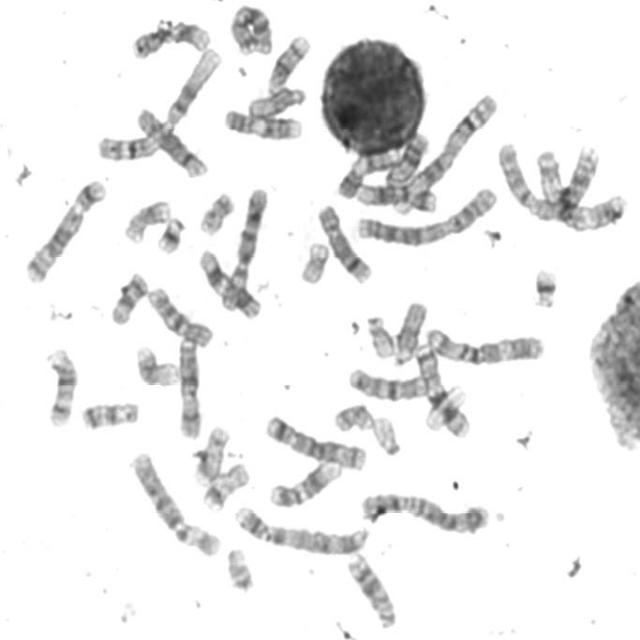A1: (350, 86, 500, 208), (92, 40, 224, 164)
A2: (494, 136, 617, 228), (352, 179, 501, 249)
A3: (531, 144, 628, 232), (421, 322, 546, 368)
B4: (230, 498, 370, 557), (357, 486, 491, 537)
B5: (20, 177, 111, 286), (260, 409, 368, 472)
C10: (142, 280, 216, 349), (344, 361, 433, 402)
C11: (193, 242, 263, 320), (127, 15, 213, 59)
C12: (349, 174, 442, 225), (264, 456, 344, 509)
C6: (127, 445, 223, 559), (216, 180, 272, 314)
C7: (411, 337, 474, 439), (226, 0, 275, 57)
C8: (132, 101, 210, 179), (313, 199, 373, 285)
C9: (333, 146, 401, 200), (219, 103, 305, 142)
D13: (343, 548, 399, 632), (380, 127, 431, 189)
D14: (41, 342, 79, 430), (262, 29, 313, 94)
D15: (388, 294, 429, 368), (243, 81, 308, 121)
E16: (119, 196, 177, 246), (130, 346, 188, 394)
E17: (198, 462, 256, 512), (188, 420, 230, 486)
E18: (105, 265, 149, 326), (76, 395, 141, 432)
F19: (422, 382, 469, 434), (299, 242, 335, 285)
F20: (194, 186, 237, 238), (330, 399, 375, 434)
G21: (152, 210, 187, 256), (528, 262, 560, 310)
G22: (367, 413, 407, 459), (362, 310, 398, 359)
X: (172, 332, 204, 440)
Y: (224, 543, 256, 595)
